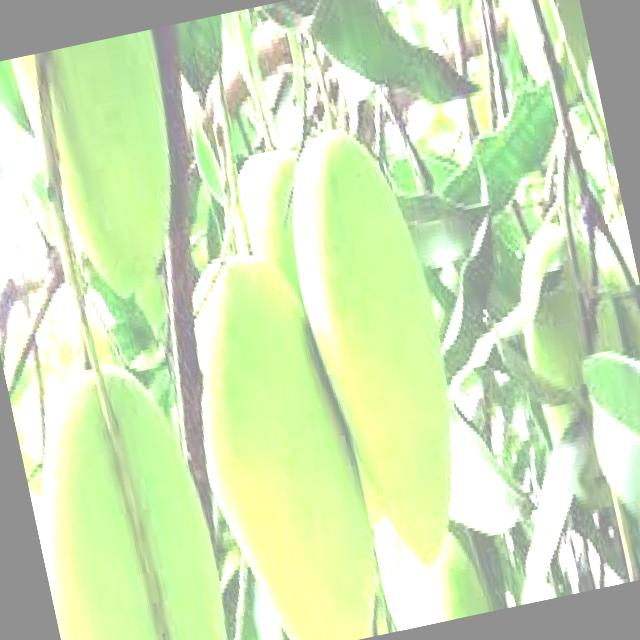Mango: (270, 116, 485, 576), (162, 235, 394, 640), (8, 350, 239, 640), (4, 29, 205, 315)
